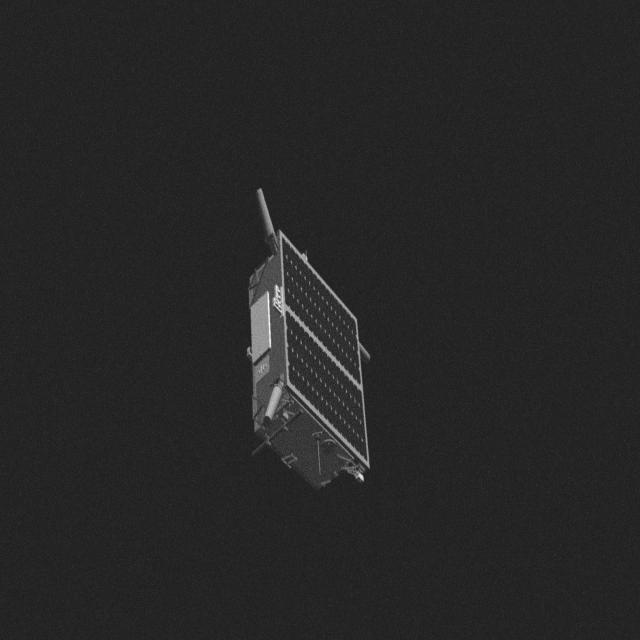medium_debris: (238, 172, 386, 496)
